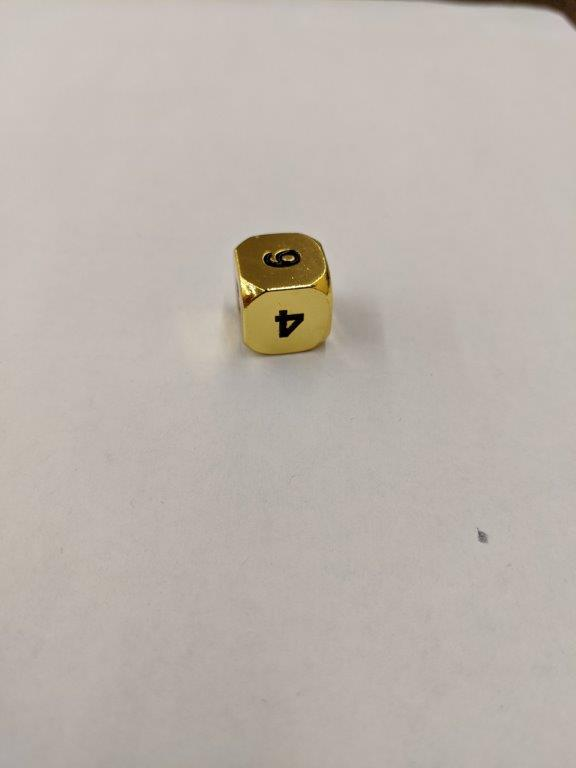d6-6: (235, 231, 337, 357)
